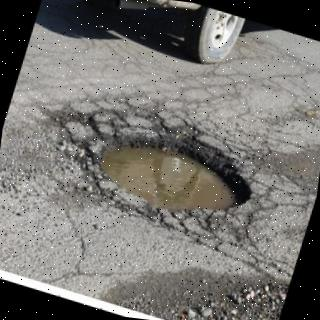pothole: (101, 139, 253, 213)
